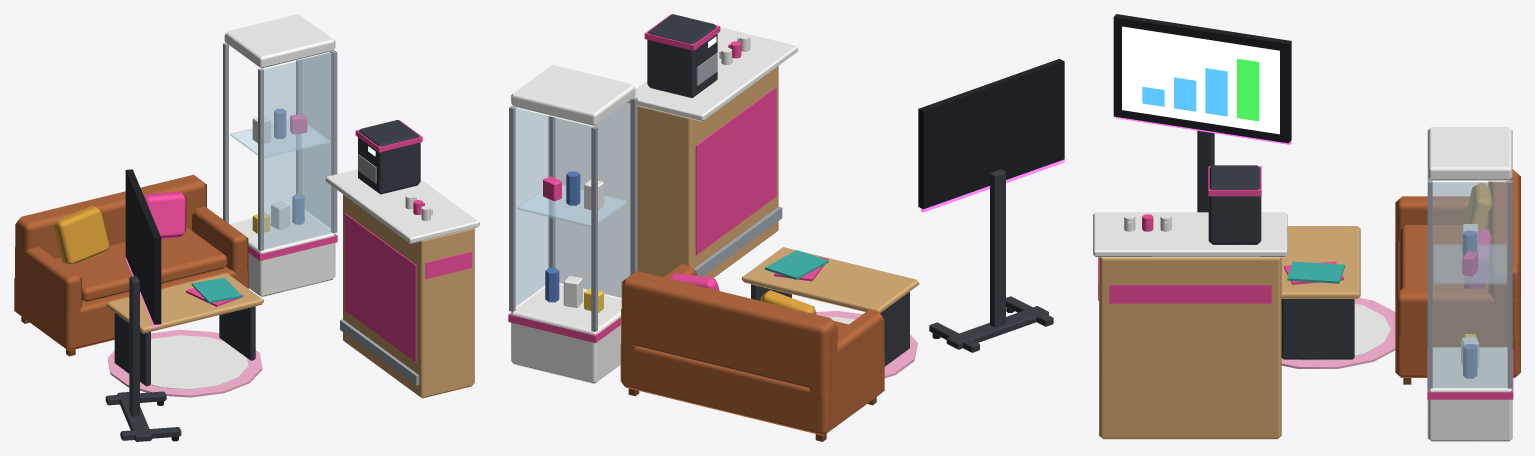
Rendered from station_special_2.glb.
3 views of the same model, side by side, from view 1: azimuth 30°, elevation 25°; view 2: azimuth 150°, elevation 25°; view 3: azimuth 270°, elevation 25° (orthographic). The views are drawn at different scales.
Parts seen in each view (by area): view 1: station_special_2; view 2: station_special_2; view 3: station_special_2.
Part boxes in pixels (<box>): station_special_2: <box>14,14,479,441</box>; station_special_2: <box>508,14,1064,441</box>; station_special_2: <box>1093,14,1520,441</box>.
Bounding box in the file's own units: 2.15 × 1.5 × 2.11.
